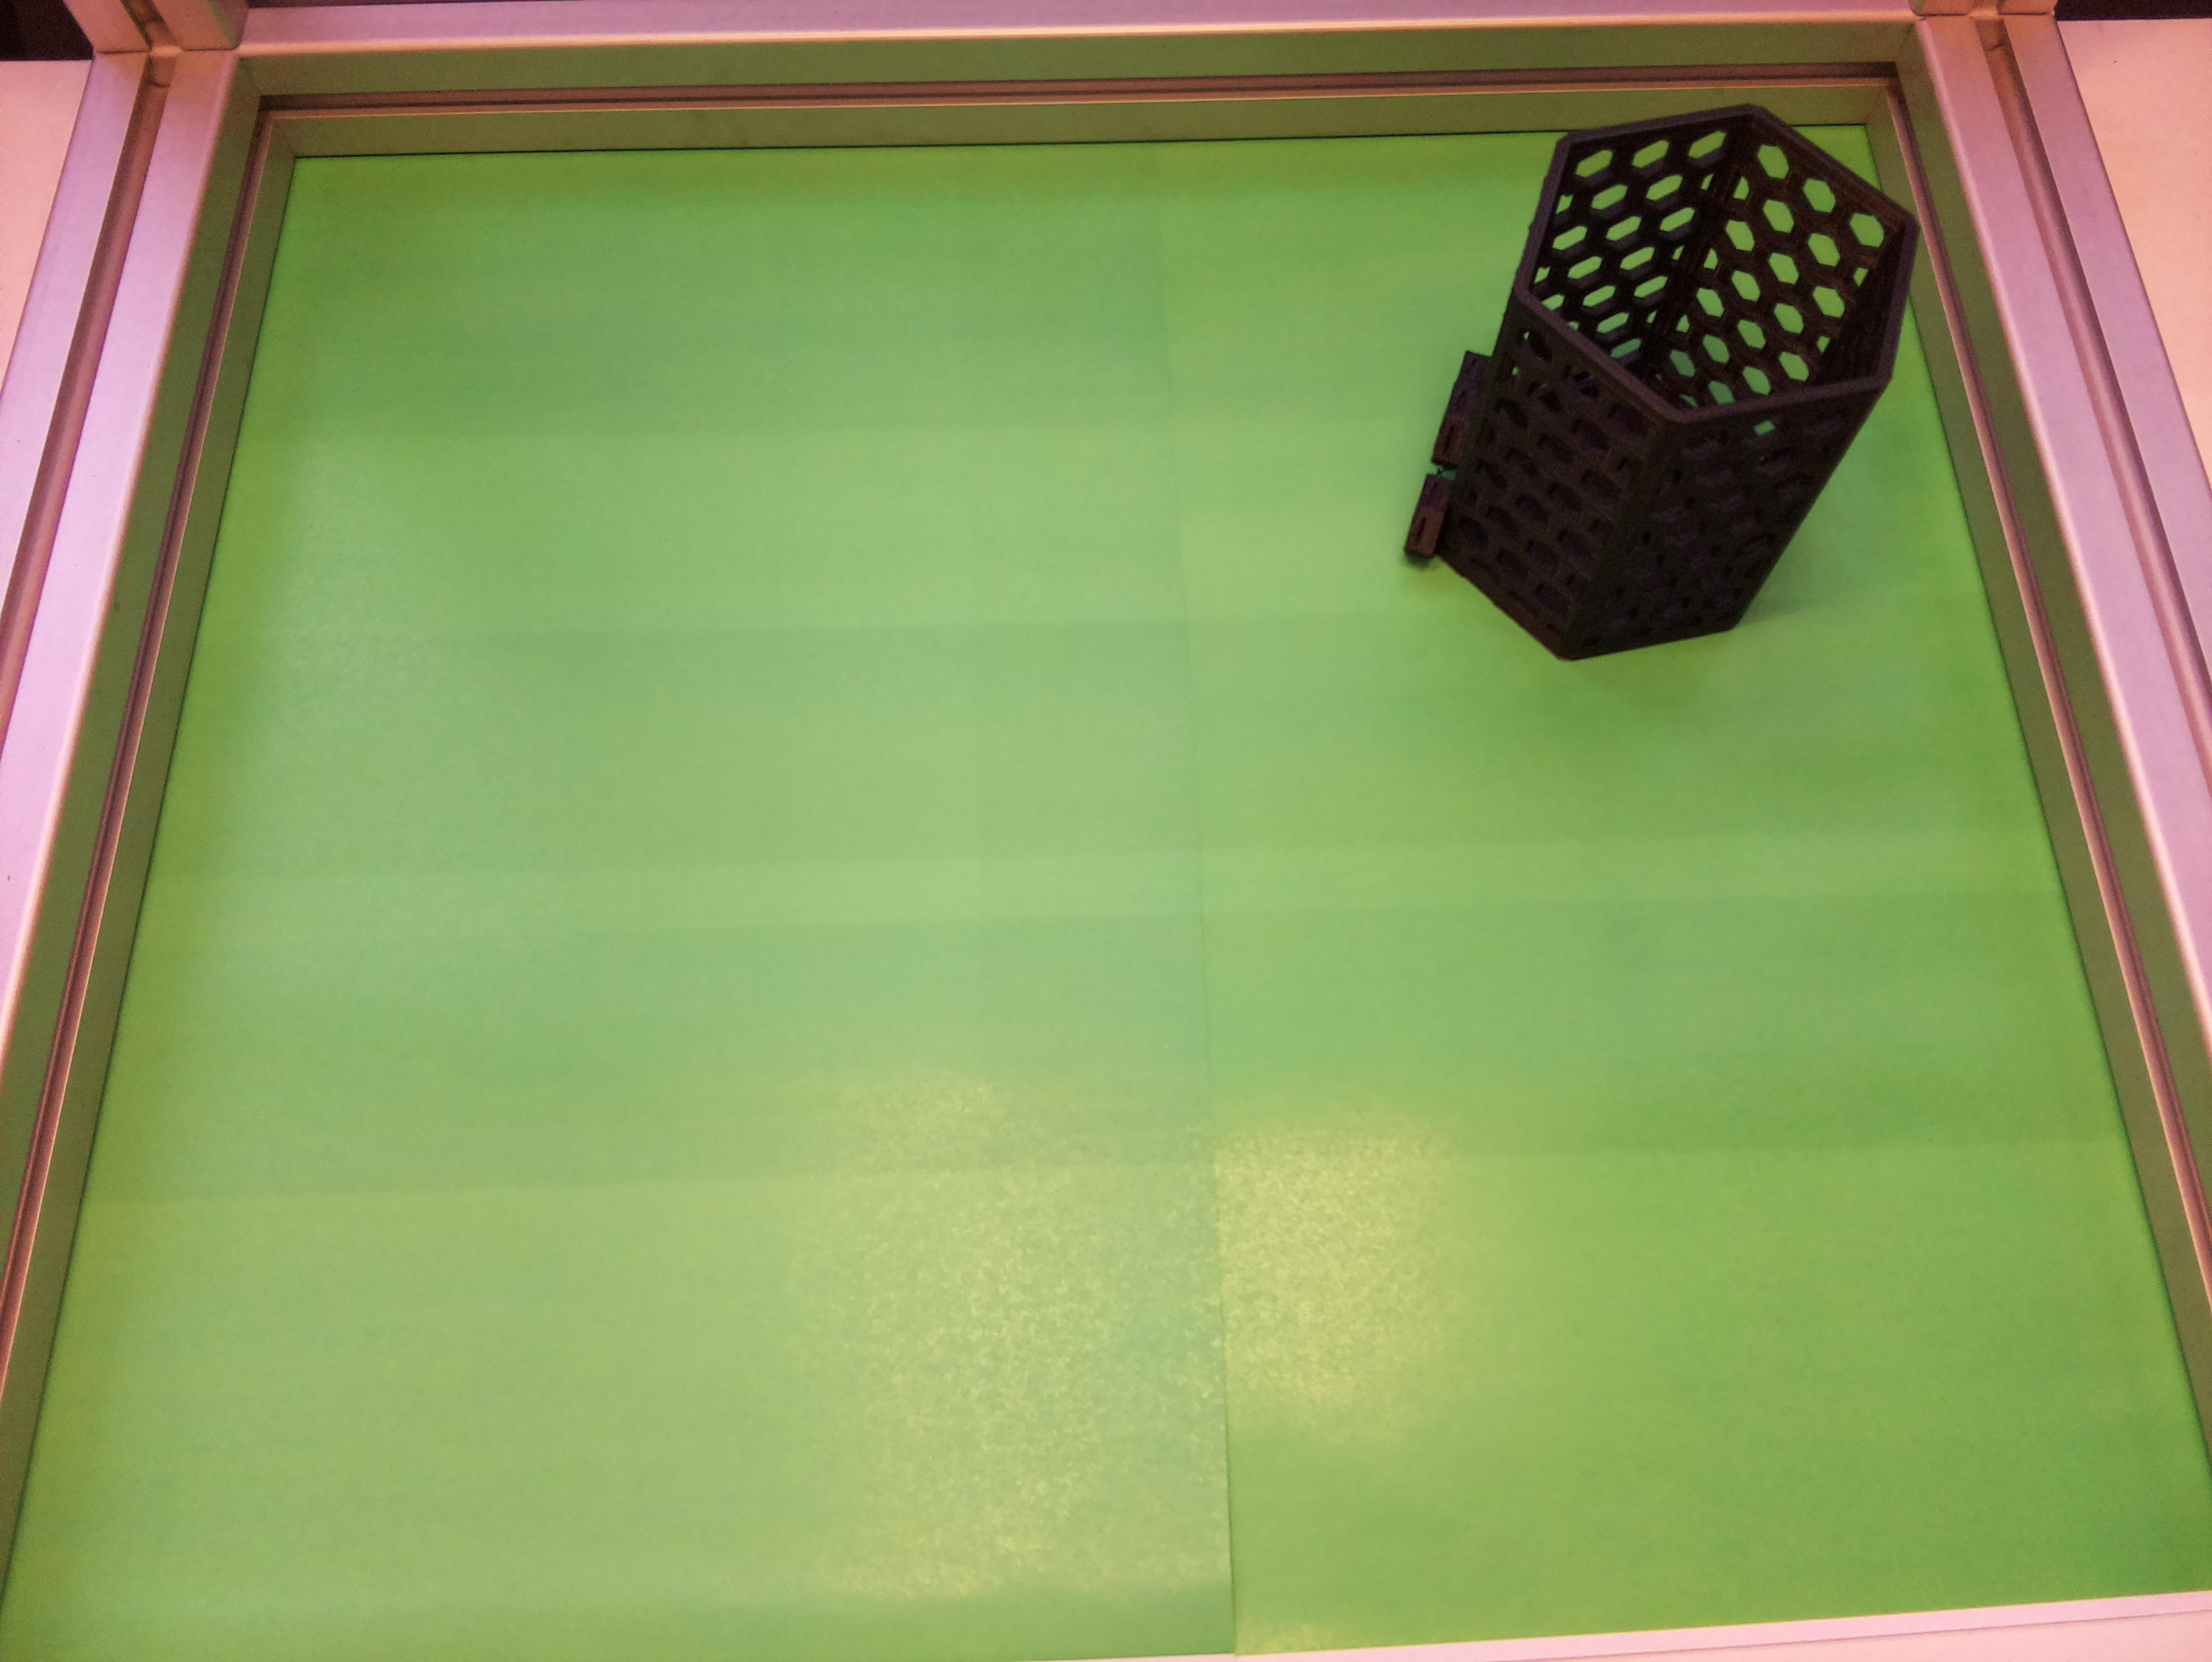cup_holder: (1327, 26, 1976, 728)
